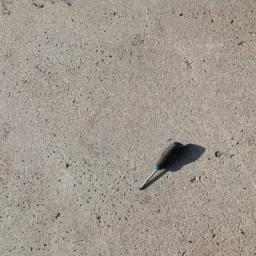FOD: (138, 139, 205, 192)
